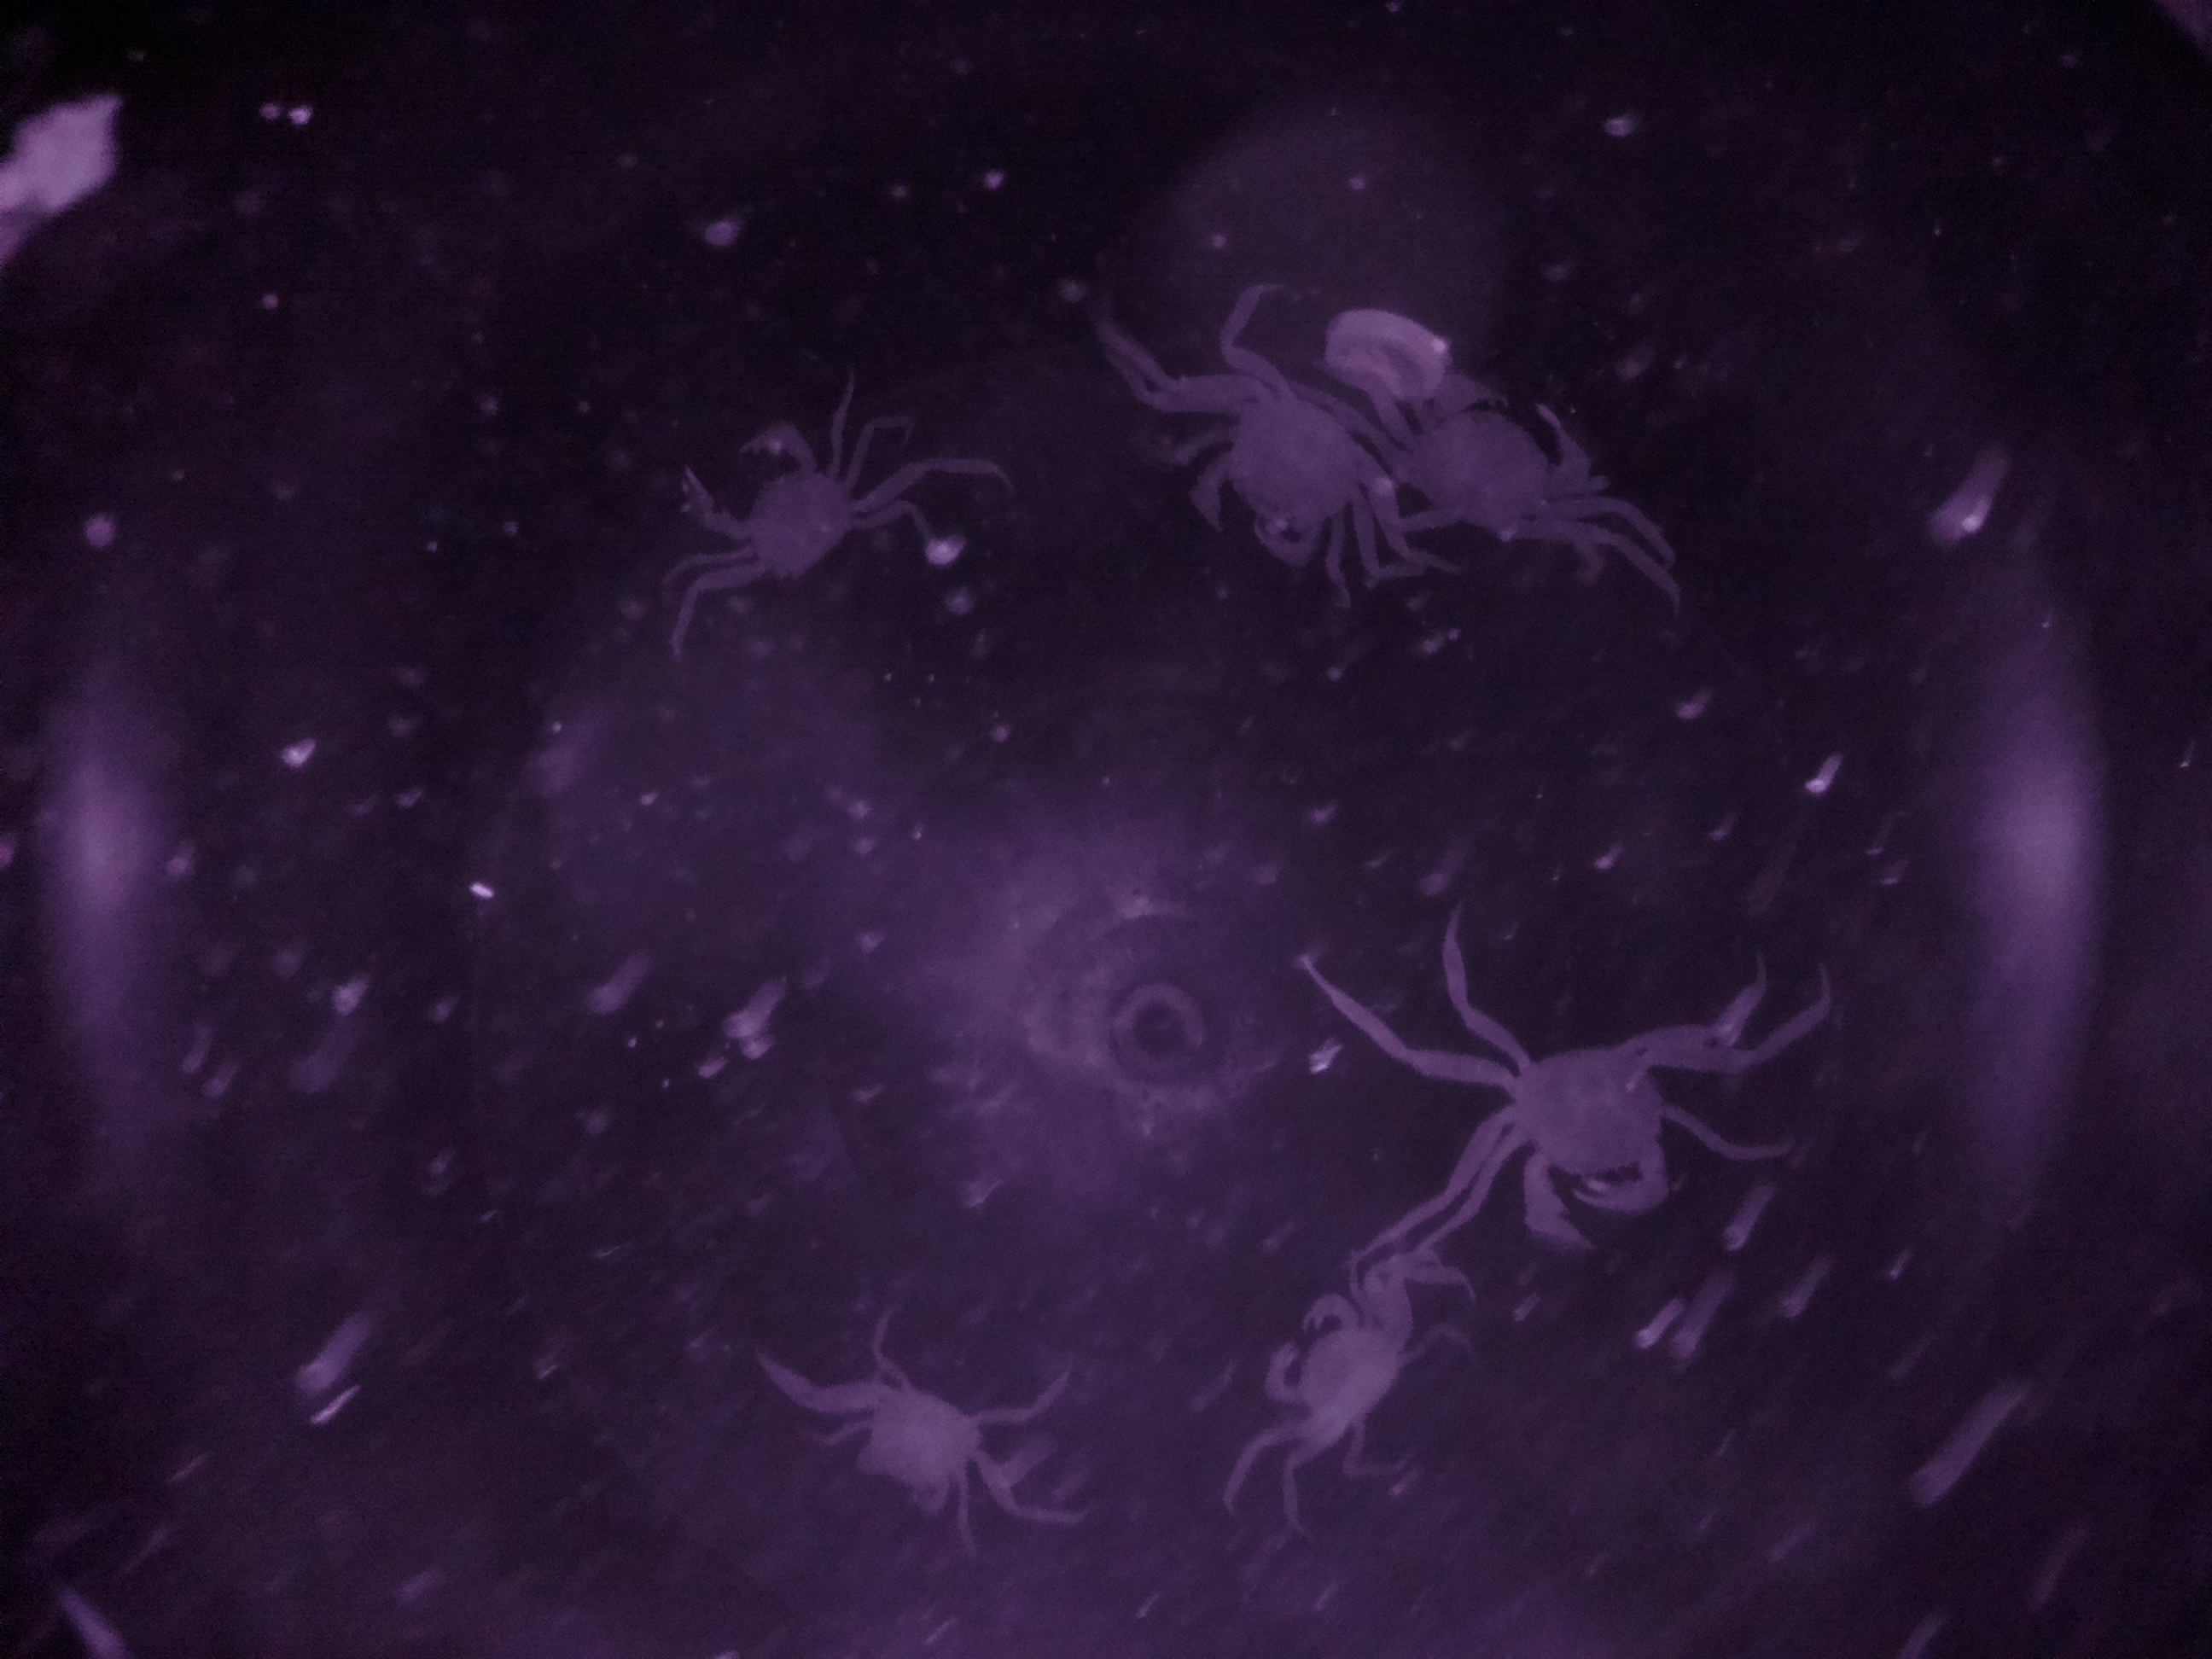Crab: (1439, 997, 1731, 1277), (665, 392, 911, 643), (1167, 340, 1400, 599), (1390, 359, 1641, 566), (1228, 1274, 1442, 1497), (808, 1340, 1035, 1539)
